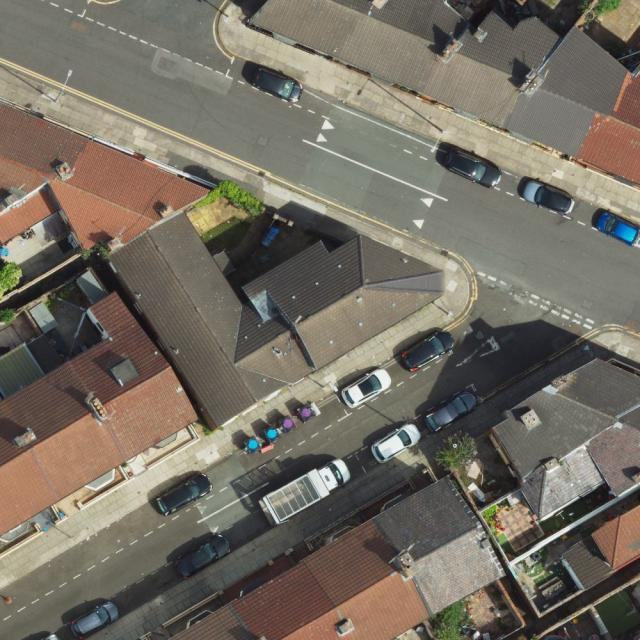roof: (0, 99, 444, 537), (257, 0, 640, 193), (167, 473, 504, 640), (490, 354, 640, 519), (562, 502, 640, 589)
